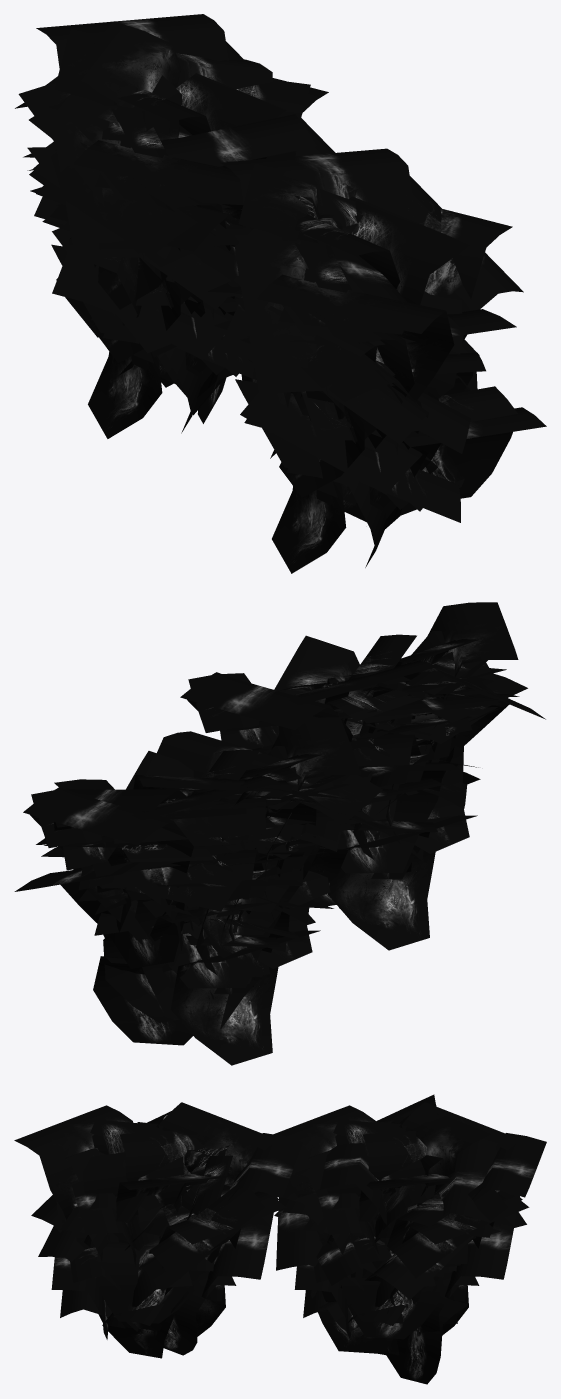
File: Spiderweb.fbx
3 renders of one model, top to bottom at view 1: azimuth 30°, elevation 25°; view 2: azimuth 150°, elevation 25°; view 3: azimuth 270°, elevation 25°, orthographic. The views are drawn at different scales.
Parts seen in each view (by area): view 1: Plane.275, Plane; view 2: Plane, Plane.275; view 3: Plane, Plane.275.
Boxes of the visible parts, x1,y1,x2,y2 form: Plane.275: (207,148,546,573); Plane: (15,14,335,438); Plane: (14,717,388,1065); Plane.275: (180,602,545,950); Plane: (273,1094,546,1384); Plane.275: (14,1102,303,1358).
Size of the model in its own units: 579 by 564 by 1151.
